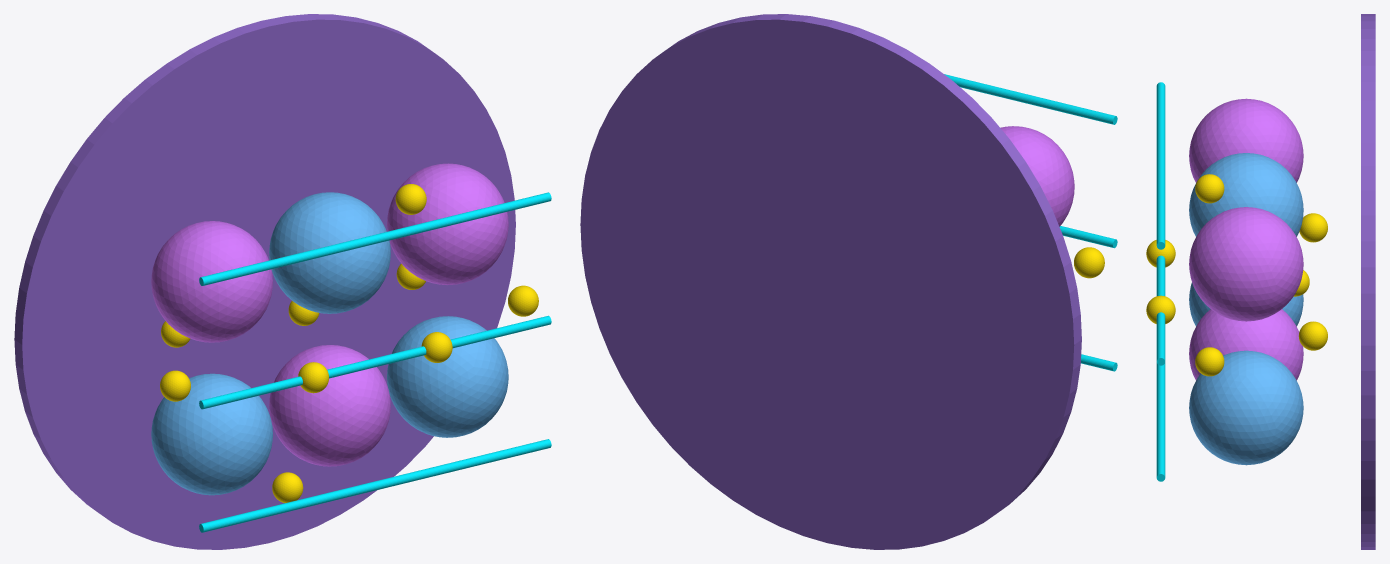
File: modelo.glb
The picture shows the model from 3 angles, left to right: view 1: azimuth 30°, elevation 25°; view 2: azimuth 150°, elevation 25°; view 3: azimuth 270°, elevation 25°; orthographic projection. The views are drawn at different scales.
Parts seen in each view (by area): view 1: base, cation_metalico_4, cation_metalico_1, cation_metalico_5, cation_metalico_3, cation_metalico_2, cation_metalico_6, trilha_eletronica_3, trilha_eletronica_1, trilha_eletronica_2, eletron_deslocalizado_4, eletron_deslocalizado_6 (+4 smaller); view 2: base, cation_metalico_4, trilha_eletronica_3, eletron_deslocalizado_3; view 3: cation_metalico_6, cation_metalico_3, base, cation_metalico_4, cation_metalico_5, cation_metalico_2, trilha_eletronica_3, trilha_eletronica_1, trilha_eletronica_2, cation_metalico_1, eletron_deslocalizado_6, eletron_deslocalizado_4 (+4 smaller).
Part boxes in pixels (x1,y1,x2,y2): base: [14, 14, 515, 549]; cation_metalico_4: [151, 221, 272, 342]; cation_metalico_1: [151, 373, 272, 495]; cation_metalico_5: [269, 192, 390, 313]; cation_metalico_3: [387, 316, 508, 437]; cation_metalico_2: [269, 345, 390, 466]; cation_metalico_6: [387, 163, 508, 285]; trilha_eletronica_3: [199, 192, 551, 285]; trilha_eletronica_1: [199, 439, 551, 532]; trilha_eletronica_2: [199, 315, 551, 409]; eletron_deslocalizado_4: [508, 285, 538, 316]; eletron_deslocalizado_6: [395, 184, 426, 214]; base: [580, 14, 1081, 549]; cation_metalico_4: [1000, 126, 1074, 226]; trilha_eletronica_3: [944, 74, 1117, 124]; eletron_deslocalizado_3: [1074, 247, 1104, 278]; cation_metalico_6: [1189, 207, 1303, 321]; cation_metalico_3: [1189, 350, 1303, 465]; base: [1361, 14, 1375, 549]; cation_metalico_4: [1189, 98, 1303, 182]; cation_metalico_5: [1189, 153, 1303, 236]; cation_metalico_2: [1189, 309, 1303, 380]; trilha_eletronica_3: [1156, 82, 1165, 249]; trilha_eletronica_1: [1156, 362, 1165, 481]; trilha_eletronica_2: [1156, 255, 1165, 365]; cation_metalico_1: [1189, 282, 1303, 326]; eletron_deslocalizado_6: [1195, 174, 1224, 203]; eletron_deslocalizado_4: [1195, 347, 1224, 376].
Bounding box in the file's own units: 0.44 × 0.44 × 0.188.
